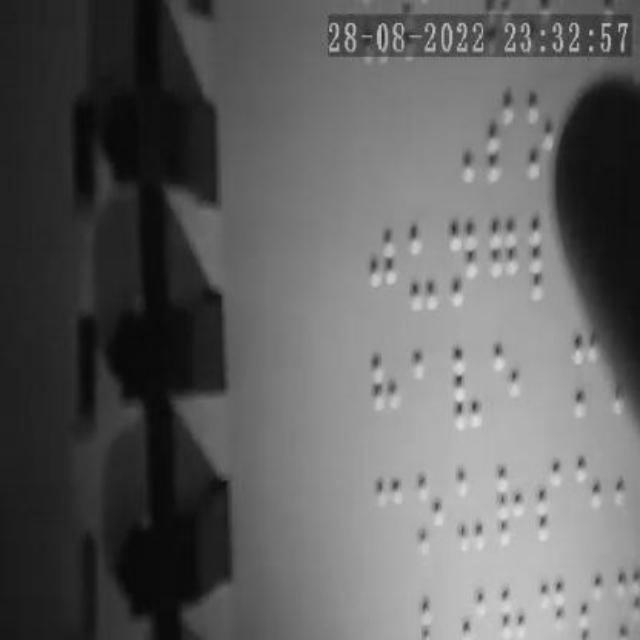braiile: (485, 89, 525, 185), (450, 340, 486, 436), (528, 210, 564, 306), (404, 222, 440, 316), (411, 470, 447, 560), (446, 216, 479, 312), (410, 344, 446, 432), (491, 338, 524, 434), (452, 466, 488, 552), (368, 346, 402, 436), (488, 210, 520, 304), (362, 226, 396, 314), (495, 458, 527, 548), (534, 450, 564, 546), (575, 453, 605, 543), (374, 470, 404, 554)
